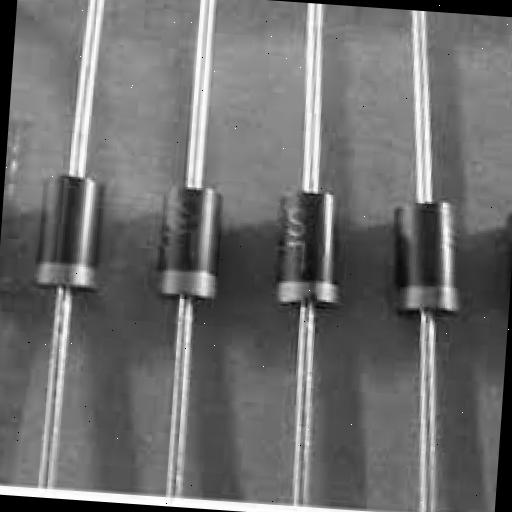DIODE: (250, 165, 397, 374), (124, 157, 262, 347), (26, 150, 162, 326), (376, 159, 492, 354)
